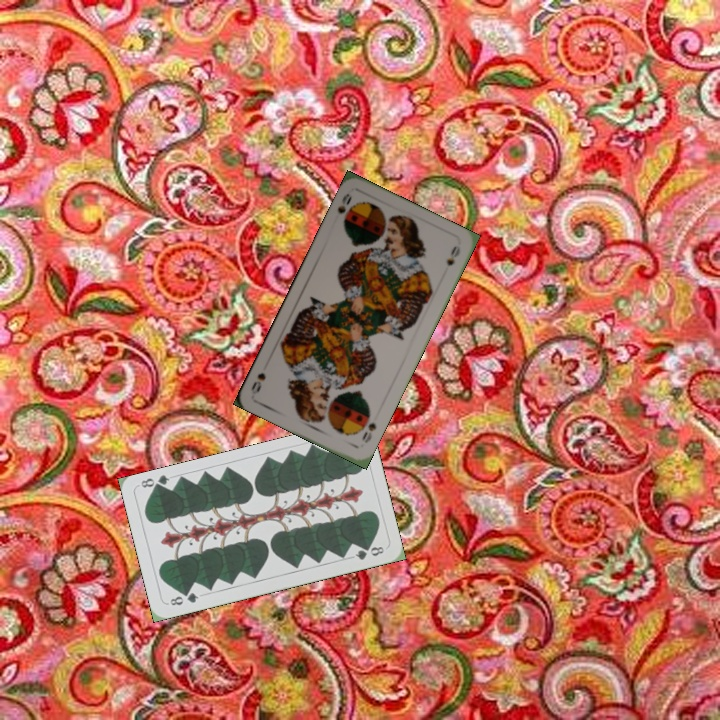G8: (166, 589, 201, 608)
SO: (333, 189, 356, 229), (358, 419, 379, 445)
